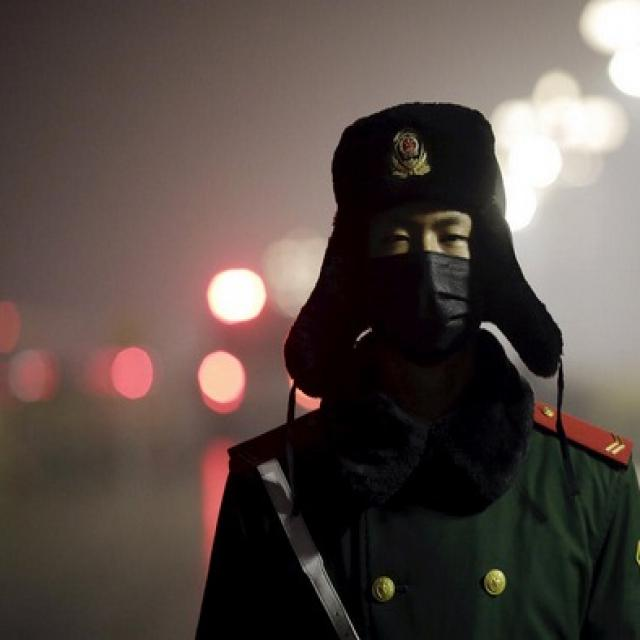mask: (360, 181, 478, 344)
